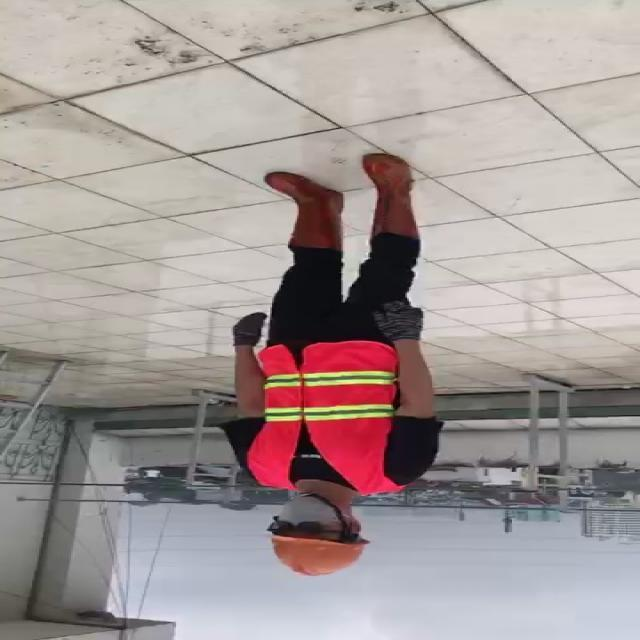Boots: (265, 170, 348, 255), (360, 152, 420, 238)
Gloves: (369, 301, 426, 342), (232, 311, 270, 345)
Helmet: (255, 532, 372, 580)
Vest: (245, 341, 402, 493)
